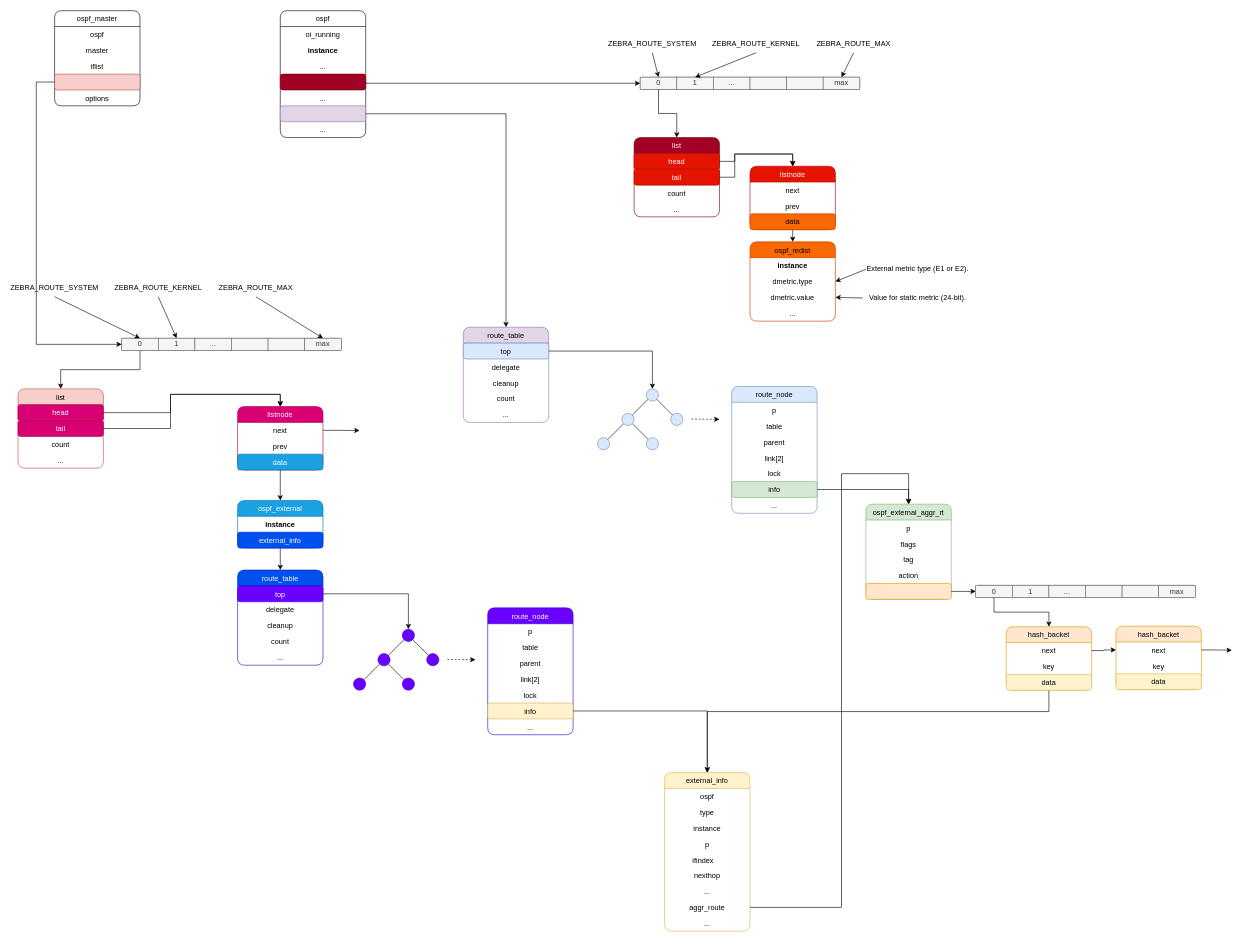
Some shapes in this 1247 by 944 pixel diagram are drawn without their labels. Each missing label, with the centre of its shape:
external: point 97,82
match_extnl_hash: point 908,591
redist: point 323,82
rt_aggr_tbl: point 323,113
